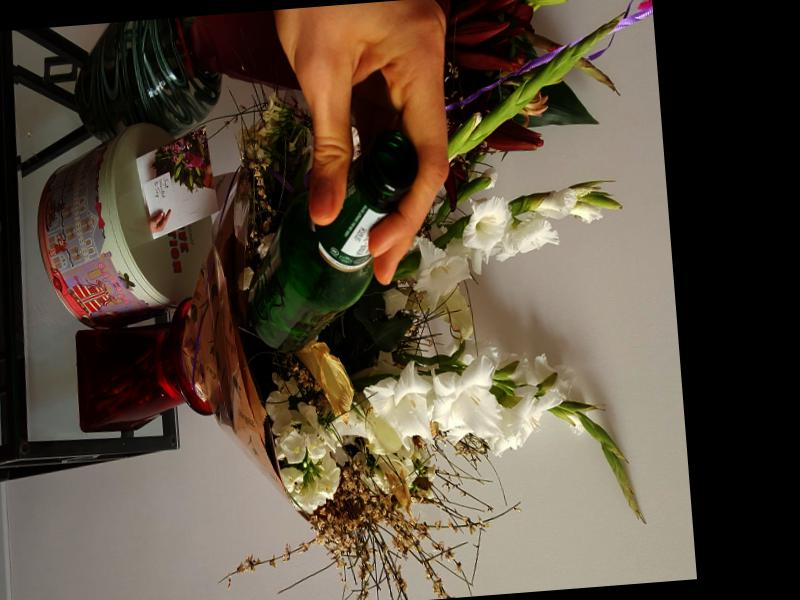Beer: (237, 131, 431, 353)
